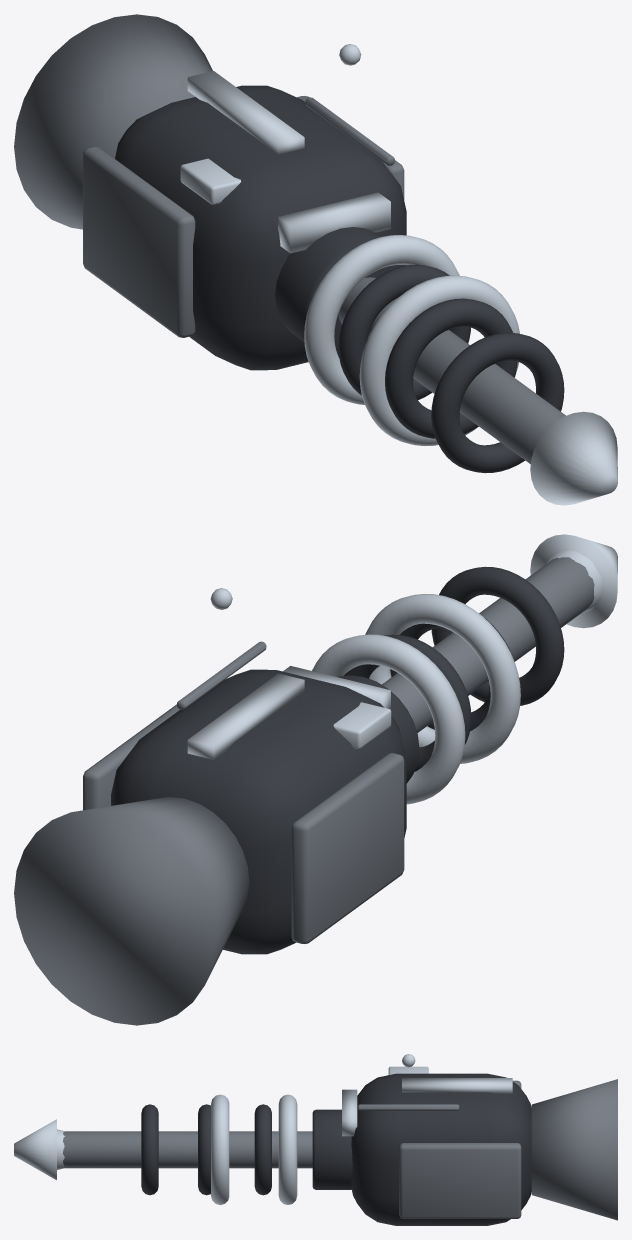
The model's file is weapon_drone_shock_coil.glb.
The picture shows the model from 3 angles, top to bottom: view 1: azimuth 30°, elevation 25°; view 2: azimuth 150°, elevation 25°; view 3: azimuth 270°, elevation 25°; orthographic projection. The views are drawn at different scales.
Parts seen in each view (by area): view 1: weapon_drone_shock_coil; view 2: weapon_drone_shock_coil; view 3: weapon_drone_shock_coil.
Part boxes in pixels (bbox=[...]): weapon_drone_shock_coil: bbox=[14, 14, 617, 505]; weapon_drone_shock_coil: bbox=[14, 534, 617, 1025]; weapon_drone_shock_coil: bbox=[14, 1054, 617, 1225].
Size of the model in its own units: 0.5184 by 0.64 by 1.96.
